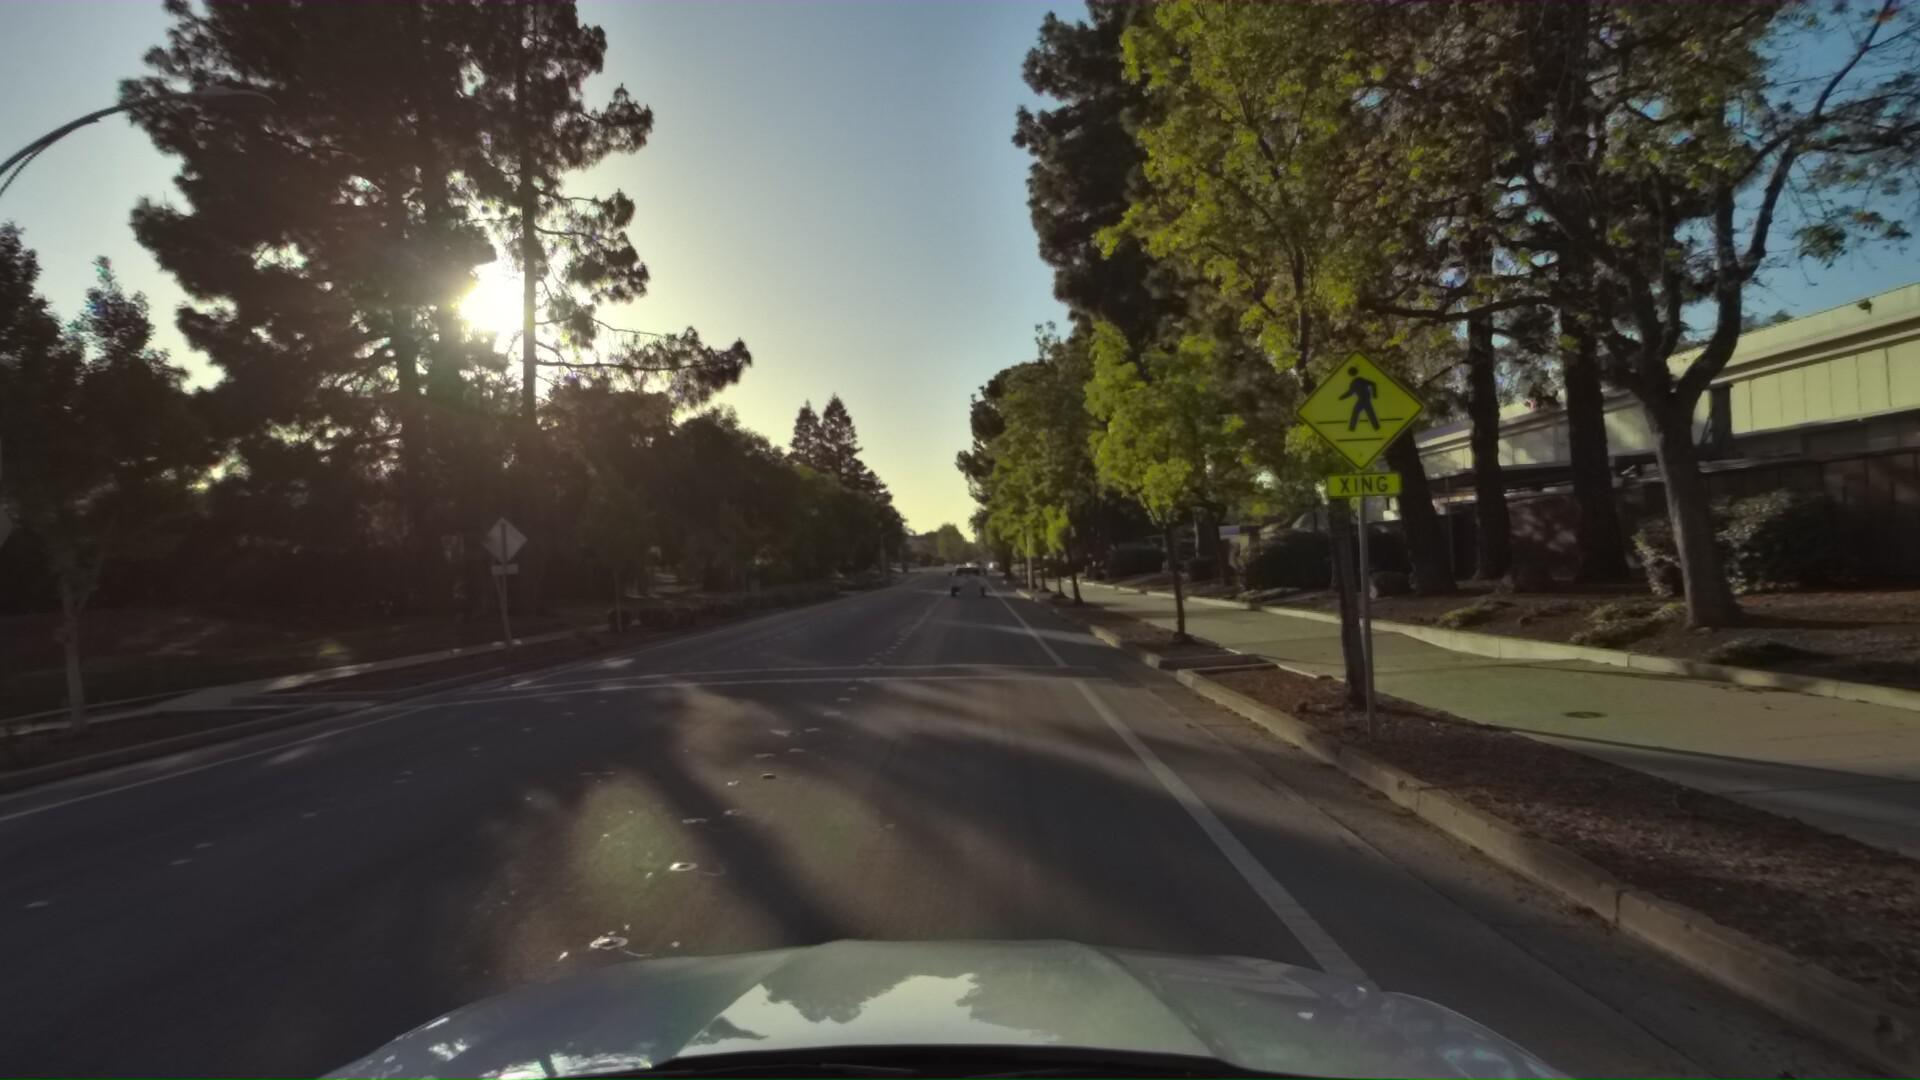car: (943, 560, 985, 597)
